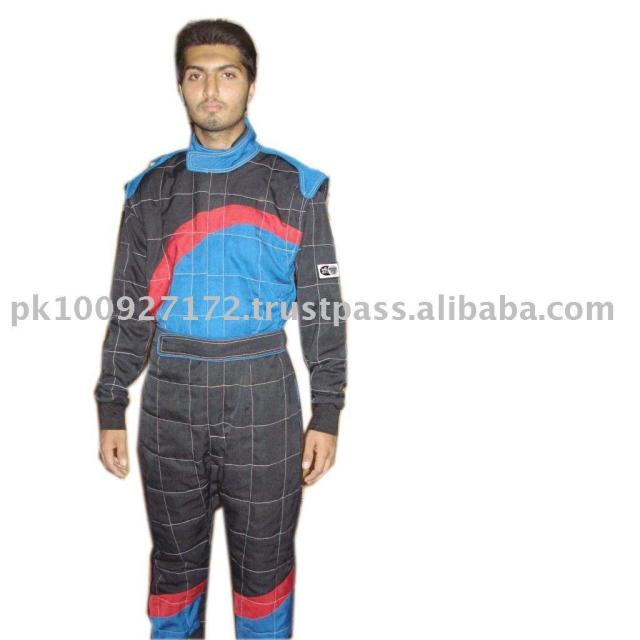Face: (171, 22, 266, 144)
